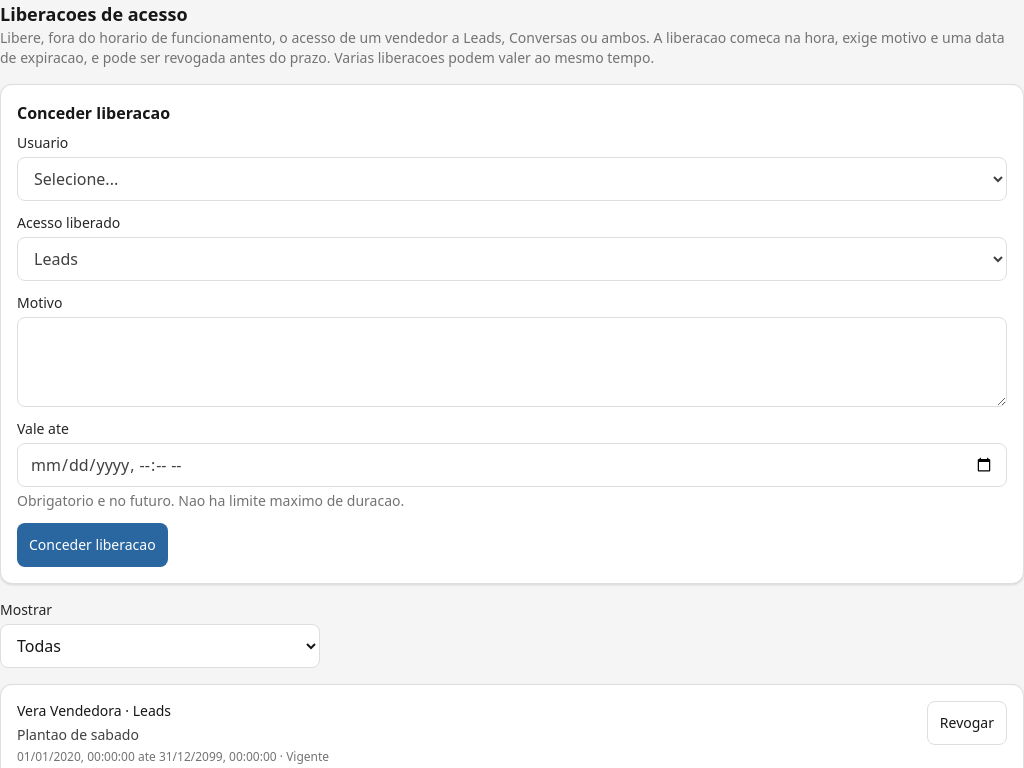
Test: AccessExceptionsPage (F4.7, Admin e Gerente) › falha ao revogar mostra erro
Expected: the text "Plantao de sabado" is shown, top-left (17, 725), bottom-right (139, 744)
Click the button "Revogar" at (967, 723), box top-left (927, 701), bottom-right (1007, 745)
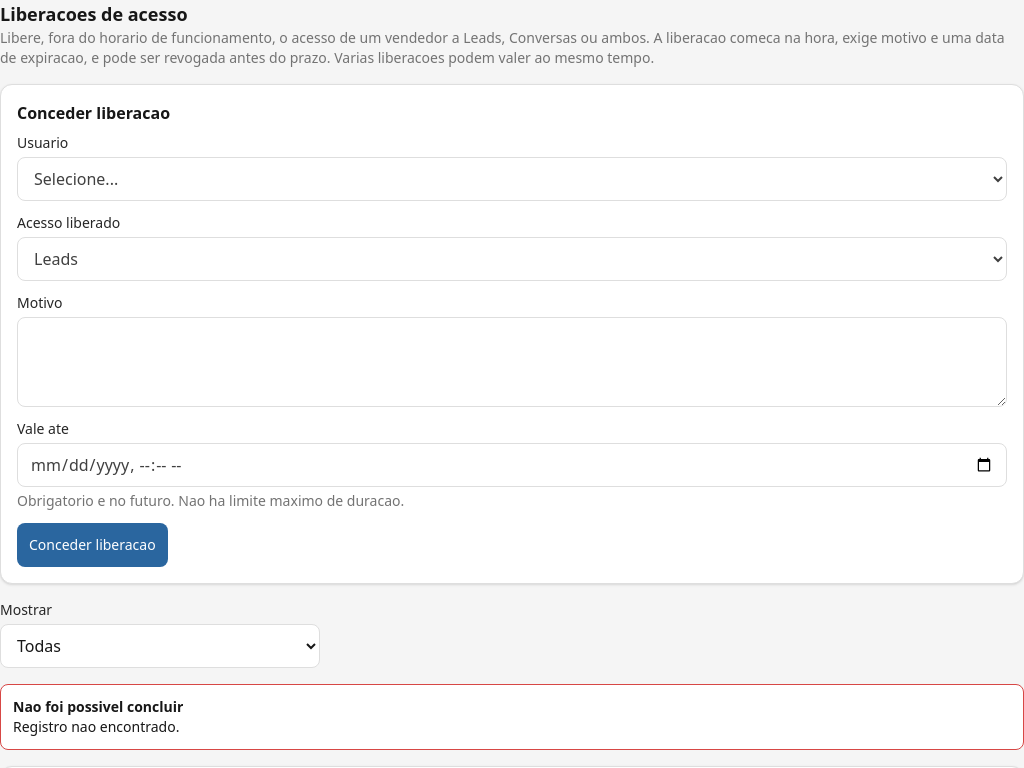
Expected: the text "Registro nao encontrado." is shown, top-left (13, 717), bottom-right (180, 736)
